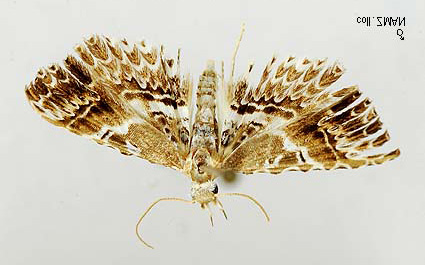Alucitidae: (17, 19, 403, 250)
moth: (19, 21, 405, 252)
